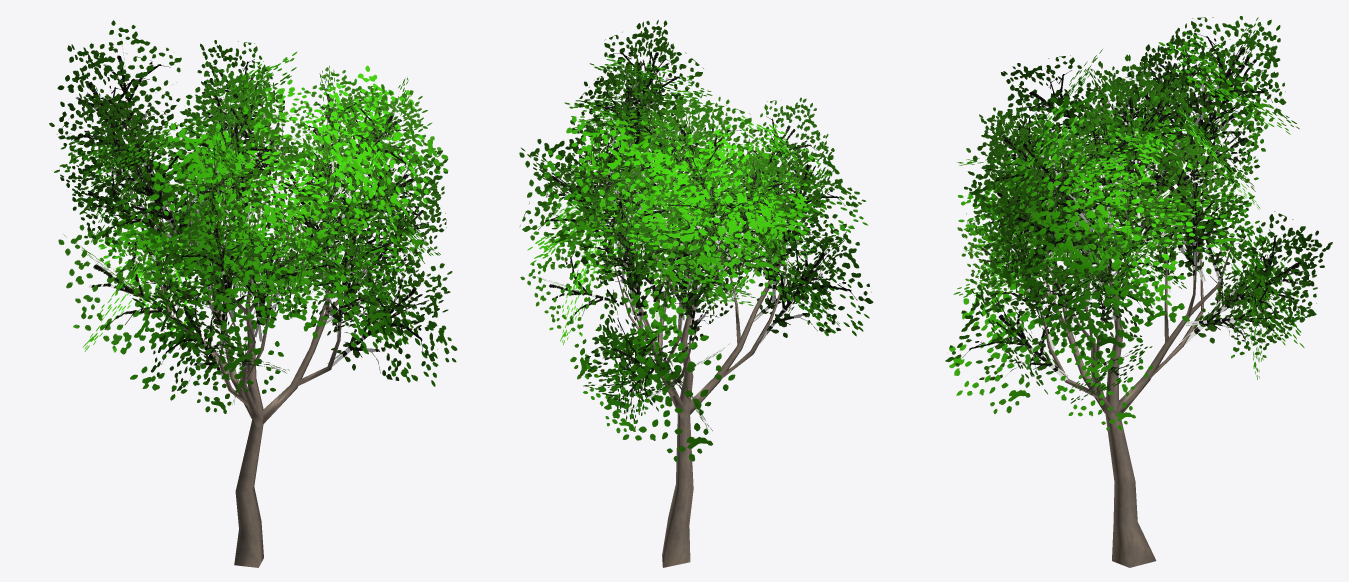
Rendered from tree_Broadleaf_M1_LOD1.fbx.
The picture shows the model from 3 angles, left to right: view 1: azimuth 30°, elevation 25°; view 2: azimuth 150°, elevation 25°; view 3: azimuth 270°, elevation 25°; orthographic projection. The views are drawn at different scales.
Visible parts, largest first — view 1: Broadleaf_M1_LOD1; view 2: Broadleaf_M1_LOD1; view 3: Broadleaf_M1_LOD1.
Part boxes in pixels (left/top/right/bottom): Broadleaf_M1_LOD1: left=49, top=20, right=457, bottom=567; Broadleaf_M1_LOD1: left=519, top=20, right=873, bottom=567; Broadleaf_M1_LOD1: left=945, top=16, right=1332, bottom=567.
Bounding box in the file's own units: 1009 × 1349 × 970.
